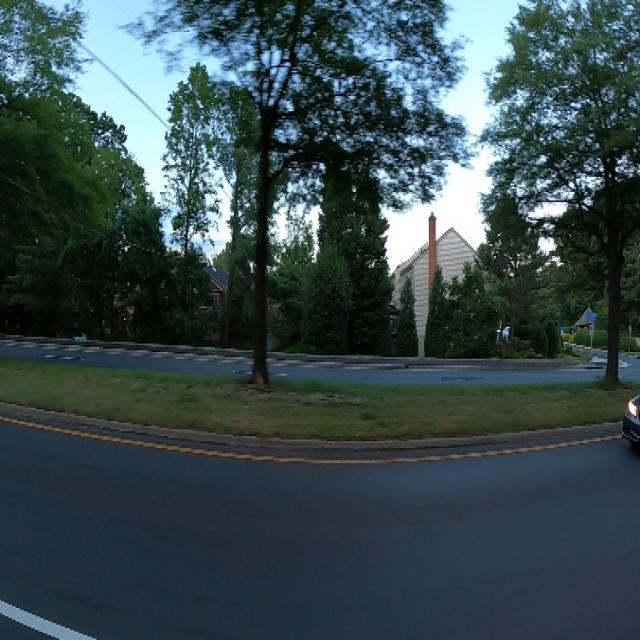cars: (618, 380, 640, 460)
